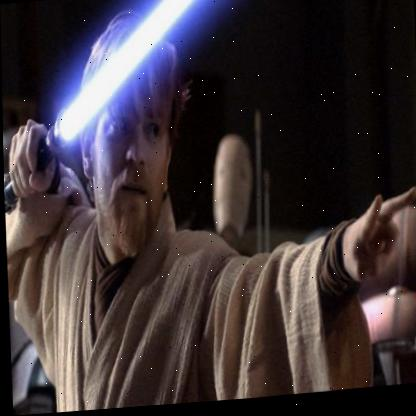lightsaber: (0, 0, 254, 206)
